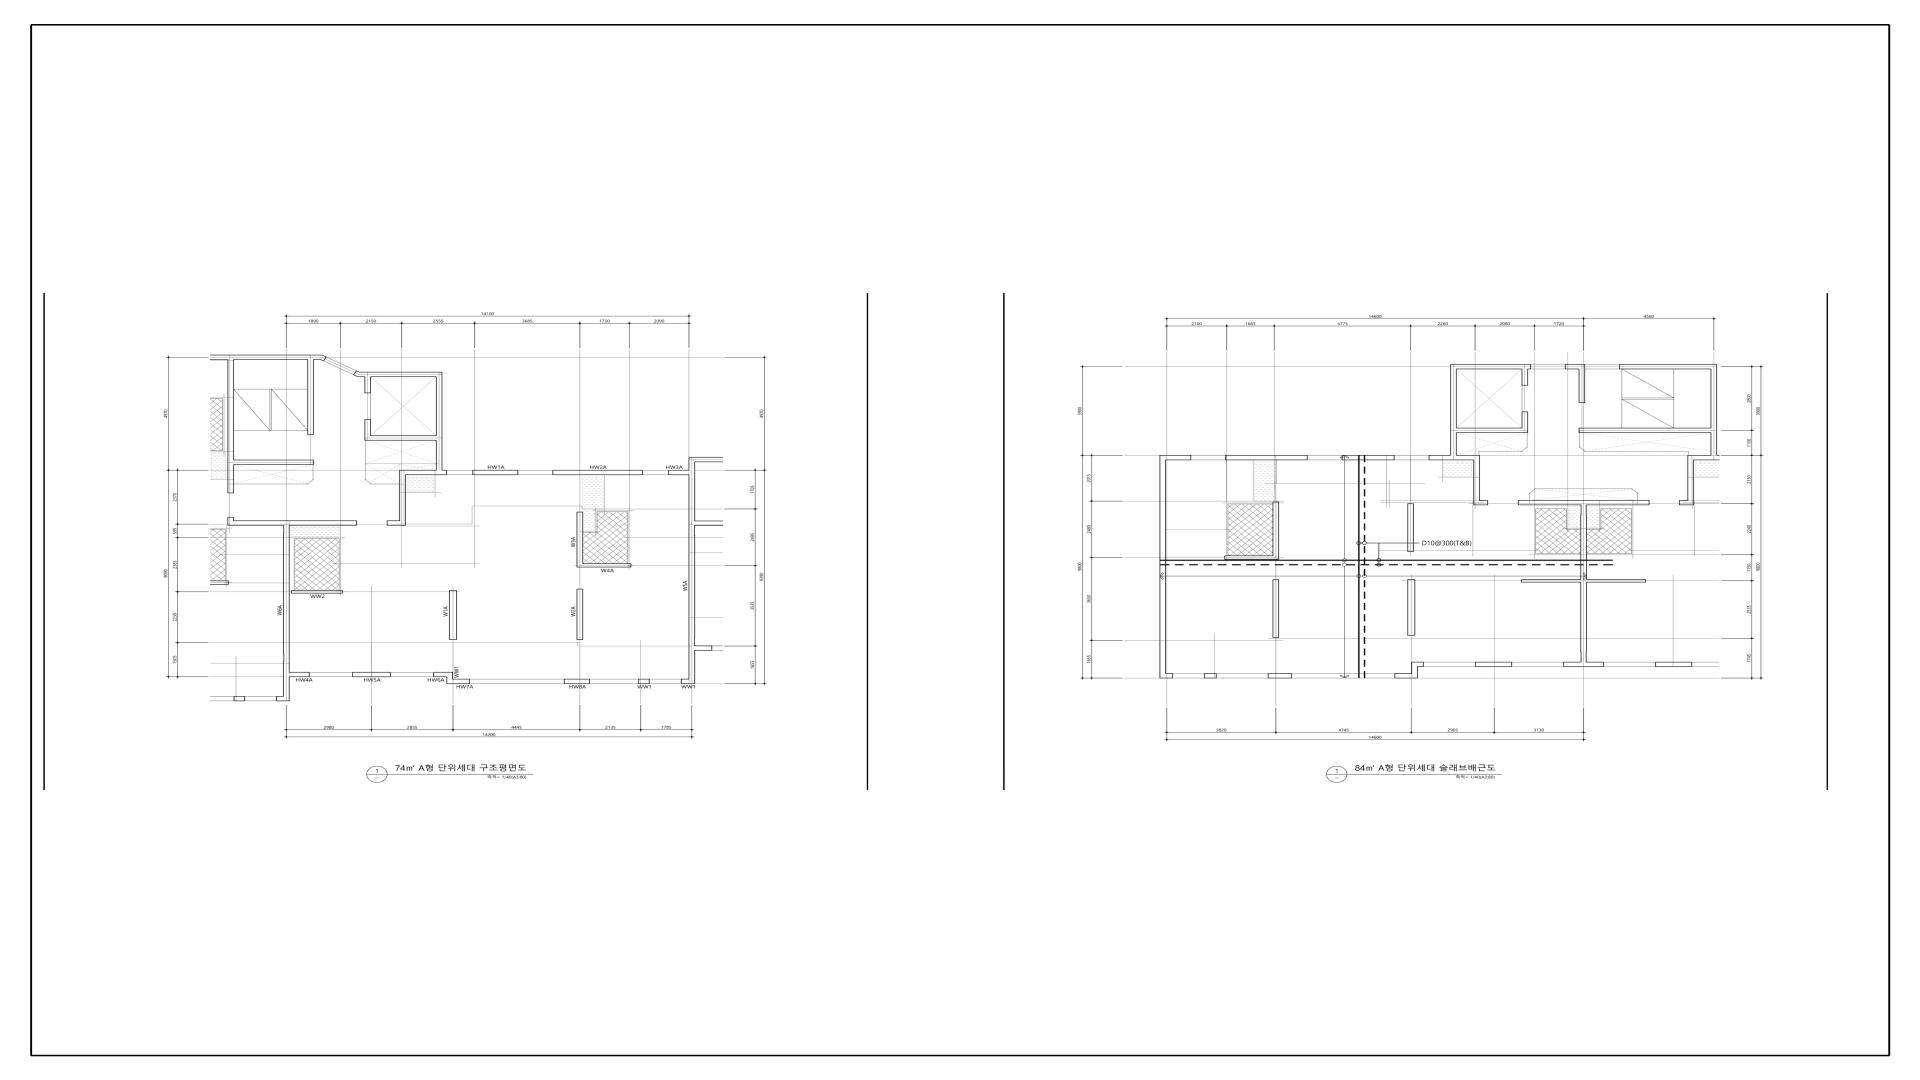wall: (1159, 460, 1166, 674), (688, 469, 695, 679), (284, 525, 290, 702), (1580, 505, 1586, 662), (228, 355, 233, 493), (1518, 500, 1650, 505), (1578, 427, 1710, 433), (233, 521, 356, 526), (436, 372, 443, 469), (1710, 364, 1717, 455), (1451, 364, 1457, 455), (307, 360, 314, 435), (553, 469, 644, 475), (1619, 364, 1710, 369), (233, 355, 322, 360), (1407, 579, 1415, 636), (1225, 455, 1308, 460), (233, 459, 314, 464), (1273, 579, 1279, 638), (1457, 364, 1531, 369), (450, 591, 458, 640), (400, 469, 406, 526), (576, 512, 583, 567), (371, 372, 436, 377), (371, 435, 436, 440), (1273, 502, 1279, 555), (1457, 427, 1522, 433), (576, 589, 583, 640), (1407, 504, 1414, 553), (1688, 455, 1695, 500), (1342, 455, 1395, 460), (1428, 455, 1480, 460), (1473, 460, 1480, 500), (472, 469, 518, 475), (1522, 579, 1581, 583), (1578, 369, 1585, 402), (406, 469, 447, 475), (1225, 555, 1279, 559), (1476, 662, 1513, 667), (583, 563, 632, 567), (1159, 455, 1191, 460), (352, 673, 390, 676), (364, 372, 371, 393), (1522, 411, 1528, 433), (564, 679, 589, 684), (1564, 662, 1586, 667), (1695, 455, 1717, 460), (365, 419, 371, 440), (669, 469, 688, 475), (1565, 364, 1585, 369), (1522, 369, 1528, 385), (1267, 674, 1292, 678), (452, 679, 469, 684), (1395, 674, 1418, 678), (289, 673, 310, 676), (1411, 662, 1418, 674), (680, 679, 695, 684), (1680, 500, 1695, 505), (1473, 500, 1487, 505), (386, 521, 400, 526), (447, 673, 452, 684), (638, 679, 650, 684), (434, 673, 447, 676), (1159, 674, 1172, 678), (1204, 674, 1217, 678), (320, 355, 327, 361), (353, 371, 360, 377), (228, 517, 233, 525), (357, 372, 365, 377), (1418, 662, 1424, 667)
